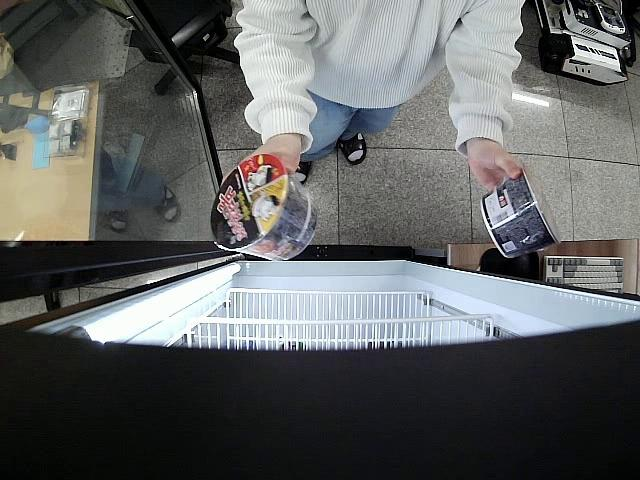00_hand: (468, 141, 523, 191), (235, 141, 303, 171)
07_buldak_L: (211, 155, 321, 261), (478, 171, 561, 261)
